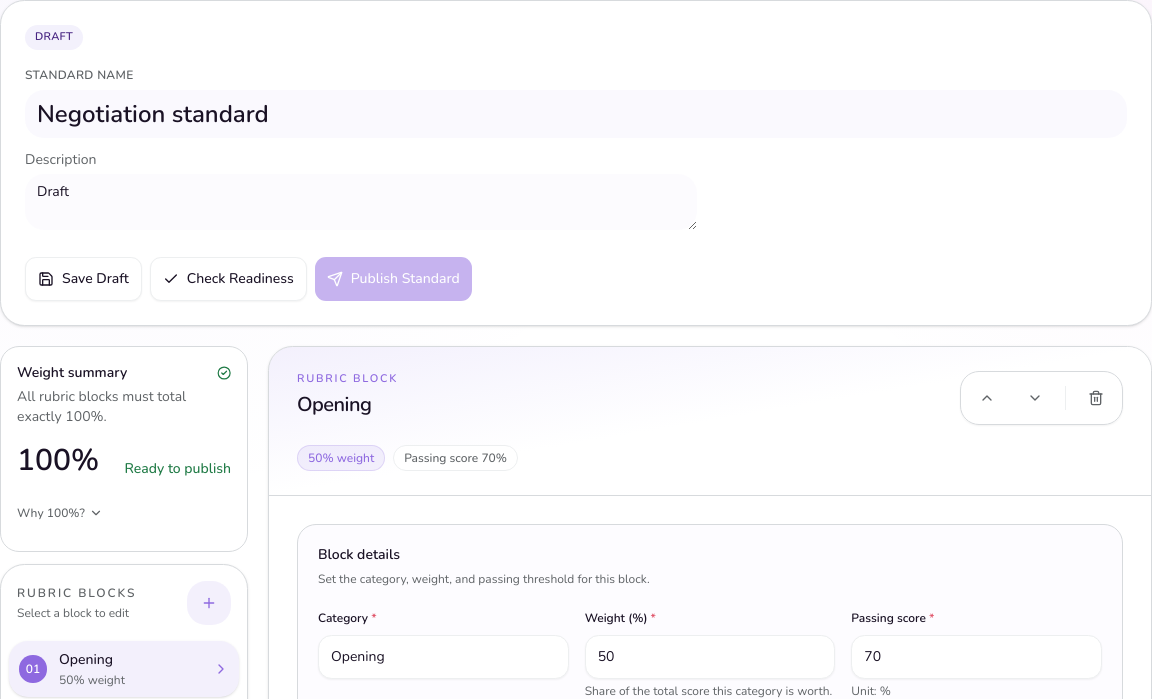
Scenario: StandardEditor human-readable server error mapping › maps a 404 response to a plain-language not-found message
The image size is (1152, 699).
Click the button "Save Draft" at (83, 278), box left=25, top=256, right=142, bottom=300
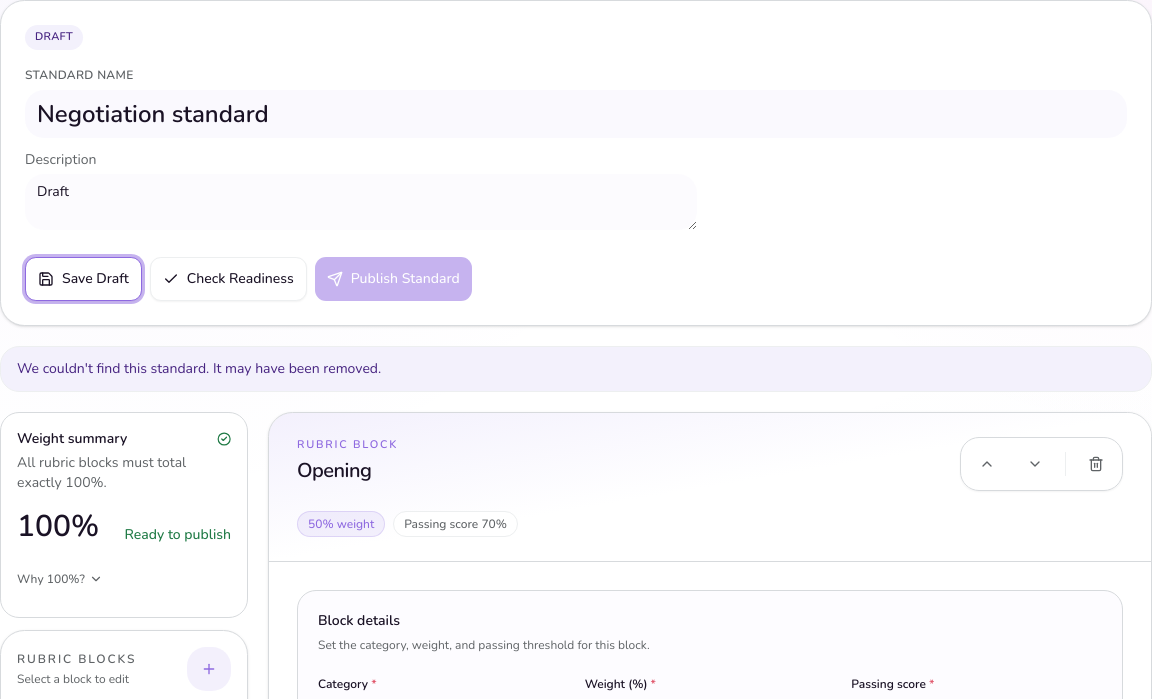
Check: the text "We couldn't find this standard. It may have been removed." is shown, box left=0, top=346, right=1151, bottom=392
